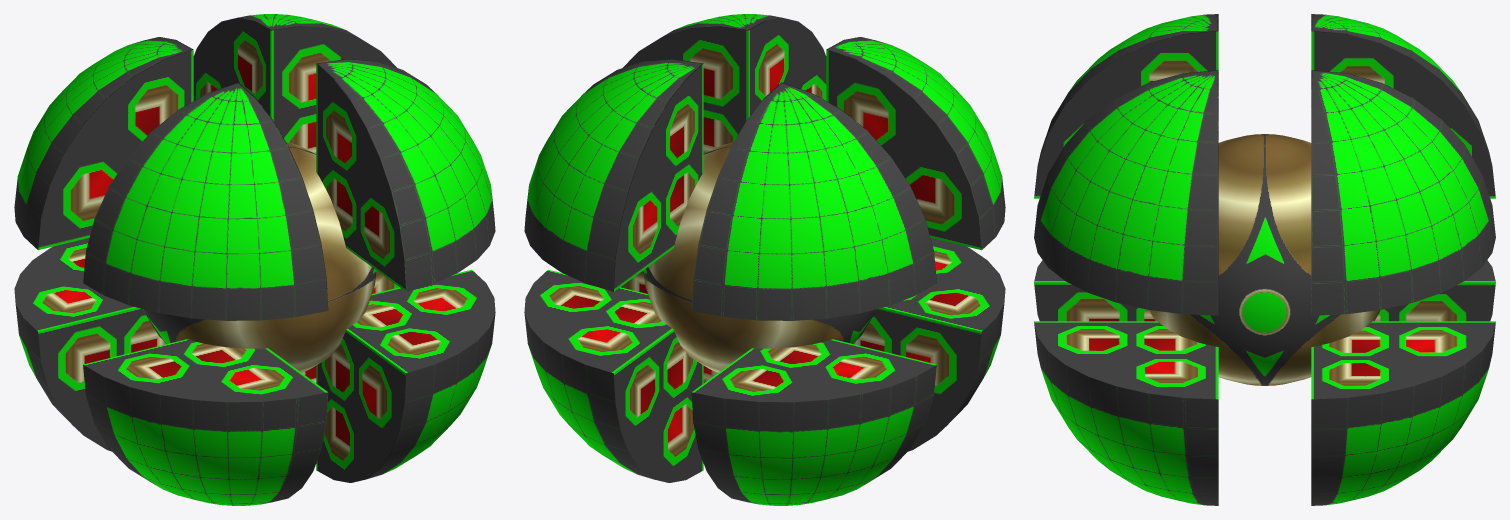
File: energy_core.obj
3 renders of one model, left to right at view 1: azimuth 30°, elevation 25°; view 2: azimuth 150°, elevation 25°; view 3: azimuth 270°, elevation 25°, orthographic. The views are drawn at different scales.
Parts seen in each view (by area): view 1: Sphere.002; view 2: Sphere.002; view 3: Sphere.002.
Part boxes in pixels (<box>): Sphere.002: <box>14,14,495,505</box>; Sphere.002: <box>524,14,1005,505</box>; Sphere.002: <box>1034,14,1495,505</box>.
Bounding box in the file's own units: 0.5 × 0.5 × 0.5.
